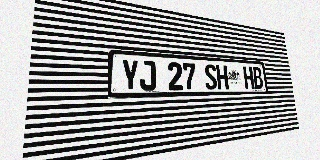2: (167, 62, 183, 90)
7: (182, 63, 197, 90)
B: (252, 67, 263, 89)
H: (216, 65, 229, 89), (243, 66, 254, 89)
J: (139, 60, 156, 91)
S: (204, 64, 218, 90)
Y: (121, 59, 139, 91)
